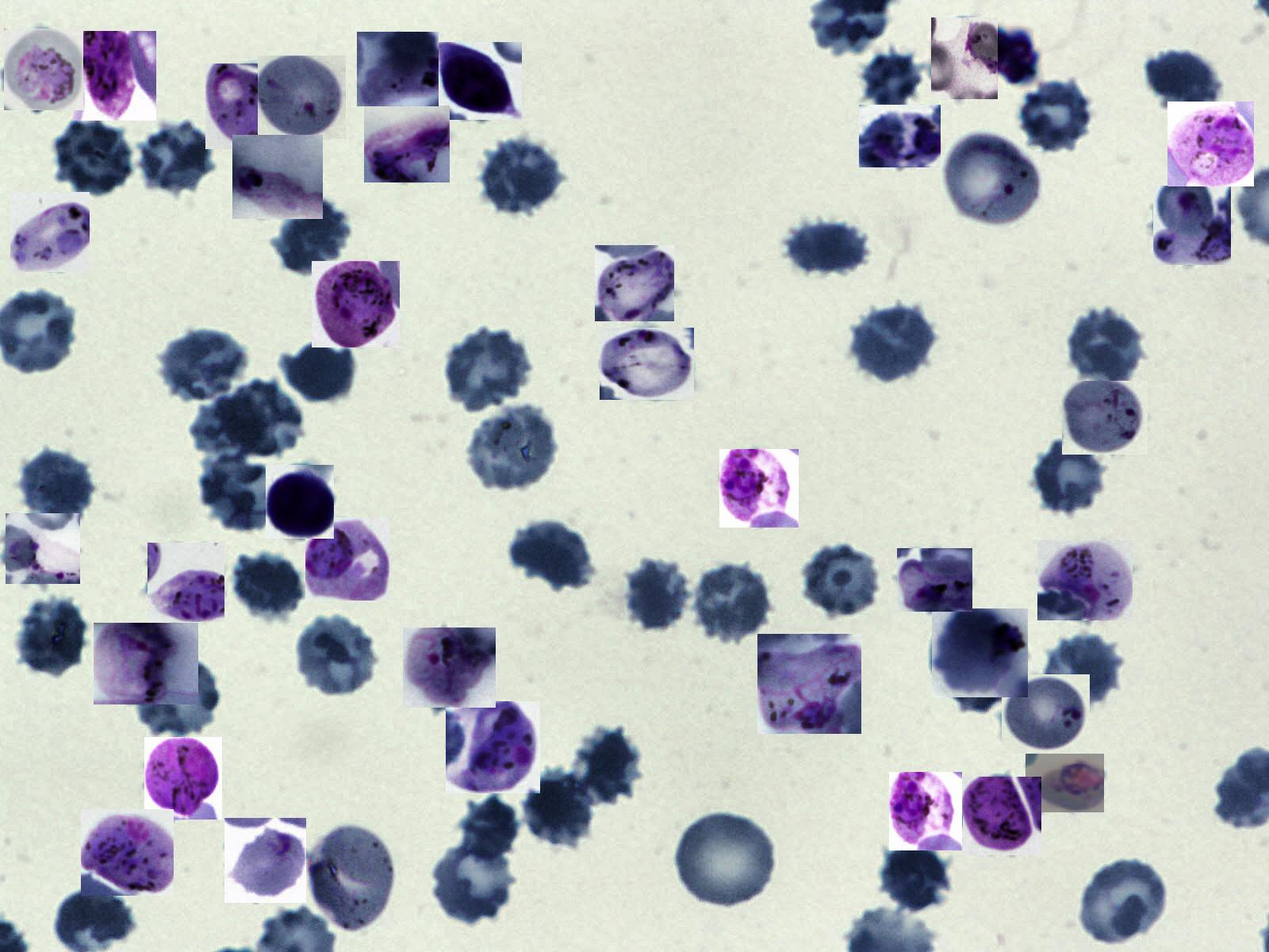Infected: (757, 634, 861, 734), (942, 128, 1045, 228), (446, 701, 540, 793), (932, 608, 1028, 697), (94, 623, 198, 704), (81, 809, 174, 896), (1037, 540, 1133, 620), (232, 135, 323, 219), (312, 261, 400, 347), (73, 31, 156, 121), (403, 628, 496, 708), (205, 63, 290, 149), (1167, 102, 1254, 186), (258, 56, 346, 139), (305, 517, 389, 601), (1002, 674, 1090, 754), (224, 818, 306, 903), (600, 328, 695, 400), (435, 42, 522, 120), (364, 106, 450, 182), (144, 737, 222, 820), (10, 192, 90, 272), (4, 29, 83, 110), (1062, 381, 1148, 455), (719, 449, 799, 528), (1153, 186, 1231, 265), (963, 777, 1041, 855), (148, 543, 224, 622), (595, 245, 674, 321), (358, 32, 439, 106), (889, 772, 962, 850), (931, 18, 998, 99), (6, 514, 80, 585), (859, 105, 941, 167), (266, 465, 334, 539), (897, 548, 972, 612), (1026, 754, 1104, 812)
Uninfected: (673, 808, 779, 911), (306, 823, 397, 931), (468, 405, 561, 492), (1078, 857, 1171, 942), (440, 325, 534, 409), (134, 655, 224, 739), (156, 323, 252, 401), (294, 614, 378, 697), (199, 451, 285, 532), (218, 381, 309, 457), (1041, 632, 1122, 716), (430, 846, 518, 923), (12, 593, 92, 677), (134, 117, 217, 197), (53, 119, 135, 197), (483, 137, 563, 214), (853, 305, 935, 380), (1068, 306, 1145, 385), (693, 562, 770, 641), (1017, 75, 1096, 152), (572, 723, 643, 808), (802, 540, 881, 616), (1032, 437, 1110, 513), (17, 446, 94, 522), (512, 518, 592, 591), (788, 213, 872, 282), (524, 770, 599, 847), (234, 547, 309, 623), (270, 202, 350, 273), (1143, 50, 1225, 115), (880, 842, 953, 915), (623, 557, 692, 634), (285, 338, 358, 406), (190, 396, 268, 457), (457, 793, 519, 863), (859, 47, 925, 106)
